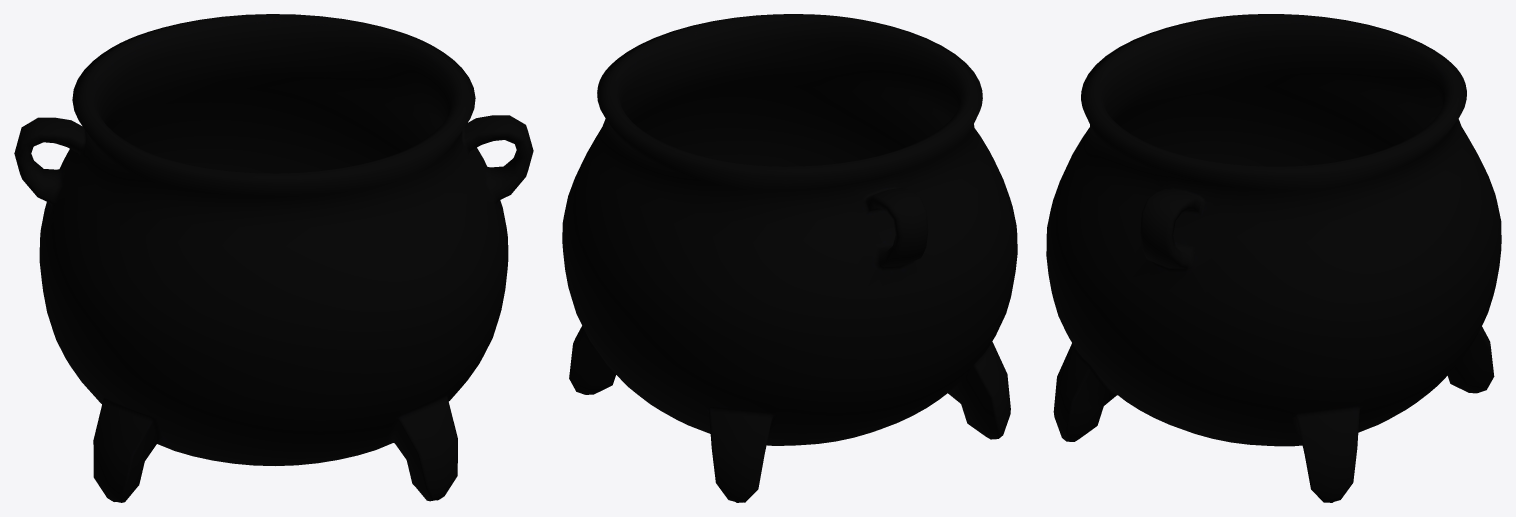
The model's file is cauldron.fbx.
3 renders of one model, left to right at view 1: azimuth 30°, elevation 25°; view 2: azimuth 150°, elevation 25°; view 3: azimuth 270°, elevation 25°, orthographic. The views are drawn at different scales.
Visible parts, largest first — view 1: cauldron; view 2: cauldron; view 3: cauldron.
Boxes of the visible parts, <box> form: cauldron: <box>14,14,533,502</box>; cauldron: <box>562,14,1017,502</box>; cauldron: <box>1046,14,1501,502</box>.
Bounding box in the file's own units: 43.62 × 34.44 × 43.62.
